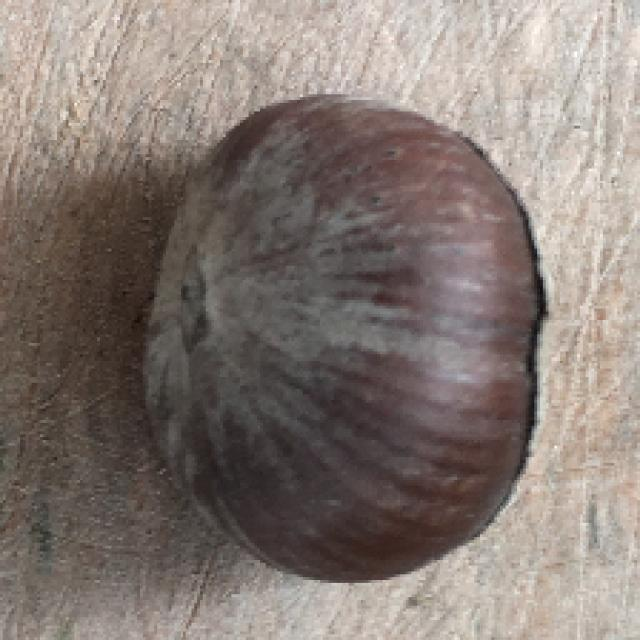damagedHazelnut: (134, 98, 555, 589)
